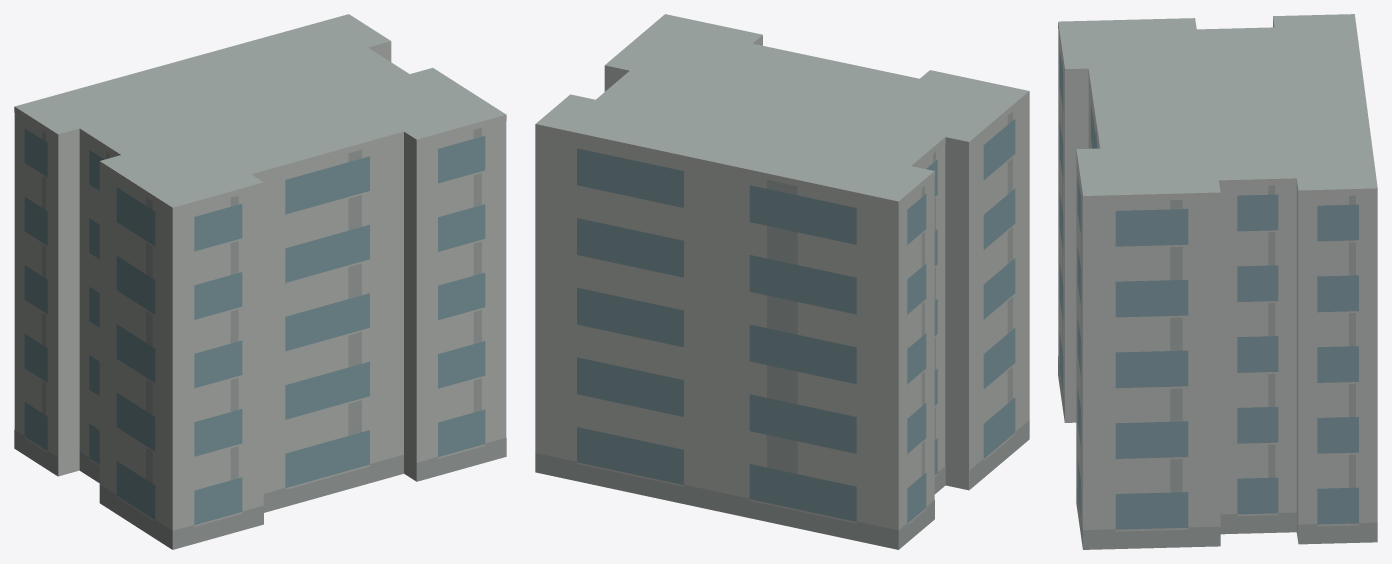
Rendered from survey-upis-32894170.glb.
The picture shows the model from 3 angles, left to right: view 1: azimuth 30°, elevation 25°; view 2: azimuth 150°, elevation 25°; view 3: azimuth 270°, elevation 25°; orthographic projection. The views are drawn at different scales.
Visible parts, largest first — view 1: survey-upis-32894170.tmp; view 2: survey-upis-32894170.tmp; view 3: survey-upis-32894170.tmp.
Part boxes in pixels (<box>): survey-upis-32894170.tmp: <box>14,14,506,549</box>; survey-upis-32894170.tmp: <box>535,14,1029,549</box>; survey-upis-32894170.tmp: <box>1058,14,1377,549</box>.
Bounding box in the file's own units: 14.79 × 13.4 × 10.98.
